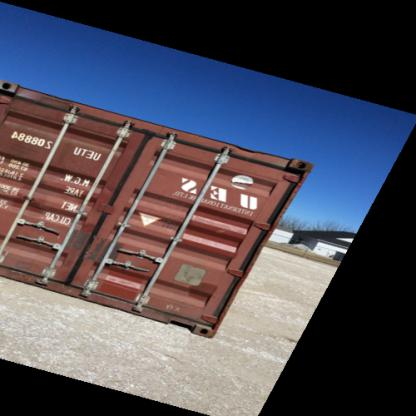Damage: (65, 224, 121, 266), (38, 89, 78, 113), (228, 143, 271, 162), (97, 176, 122, 203), (216, 217, 234, 241)
